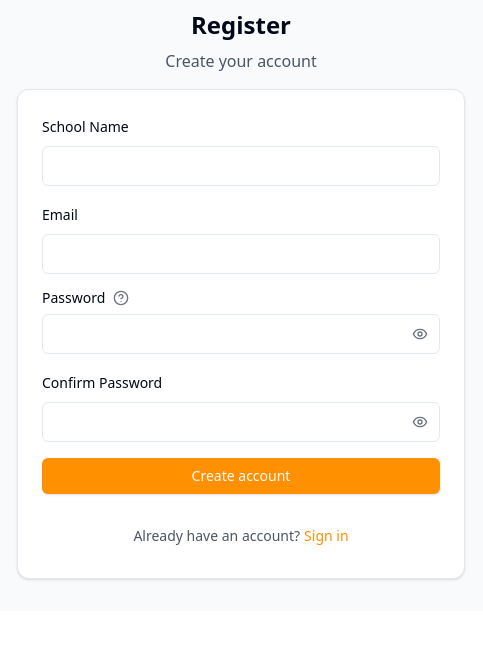
Test case: Register Page › shows error on passwords not matching
Type "Test School" into the field labelled "School Name". click: (241,166)
box: [42,146,440,186]
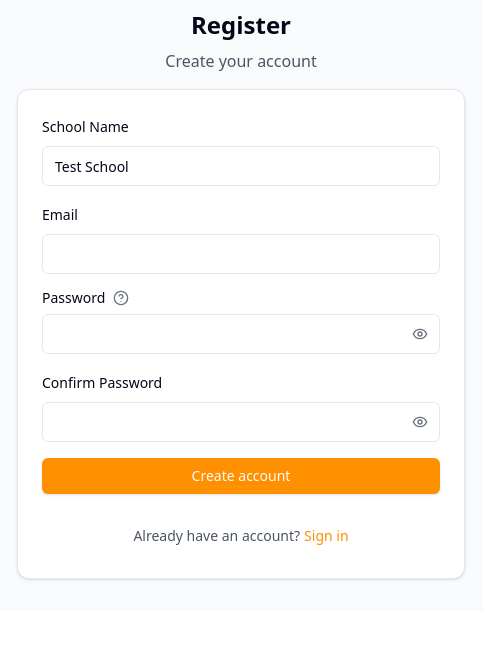
Type "test@school.com" into the field with id "email". click: (241,254)
box: [42,234,440,274]
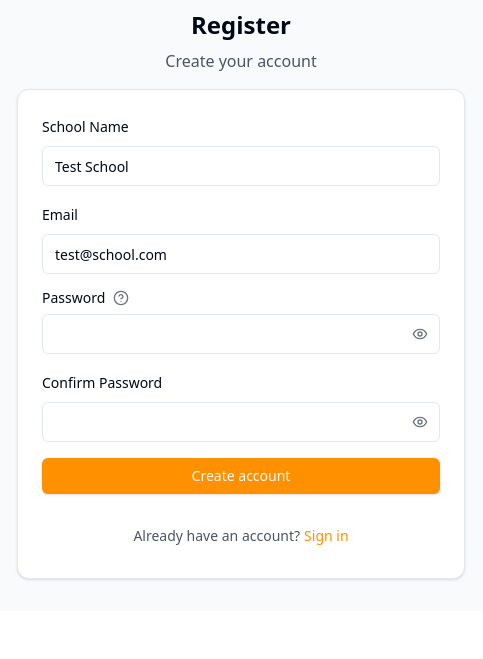
Type "Password123!" into the password field labelled "Password". click: (241,334)
box: [42,314,440,354]
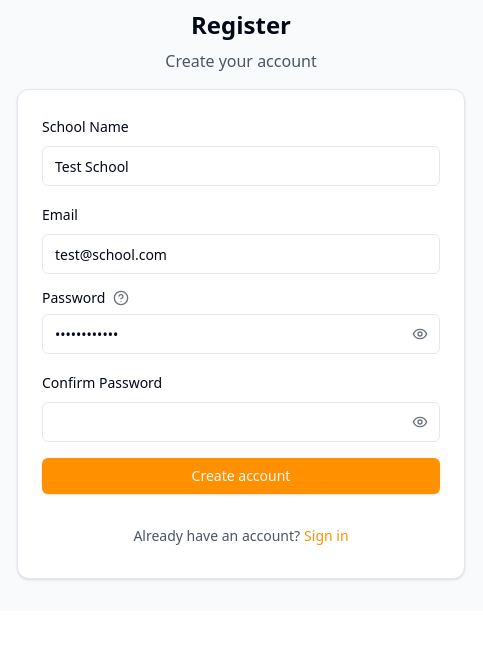
Type "123Password" into the password field with id "confirm-password". click: (241,422)
box: [42,402,440,442]
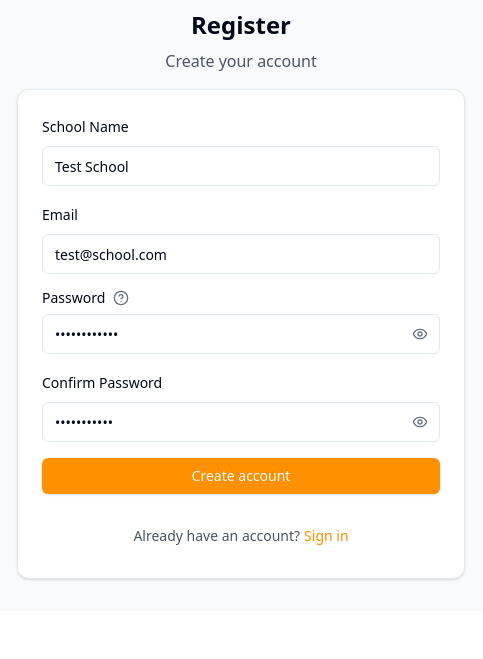
Click the button with id "sign-up-btn". click: (241,476)
box: [42,458,440,494]
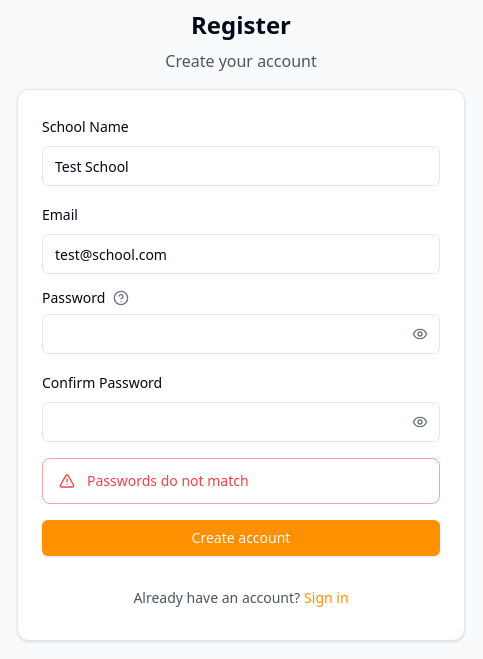
Result: the text with id "register-error-message" reads "Passwords do not match" at [87,471,249,490]
